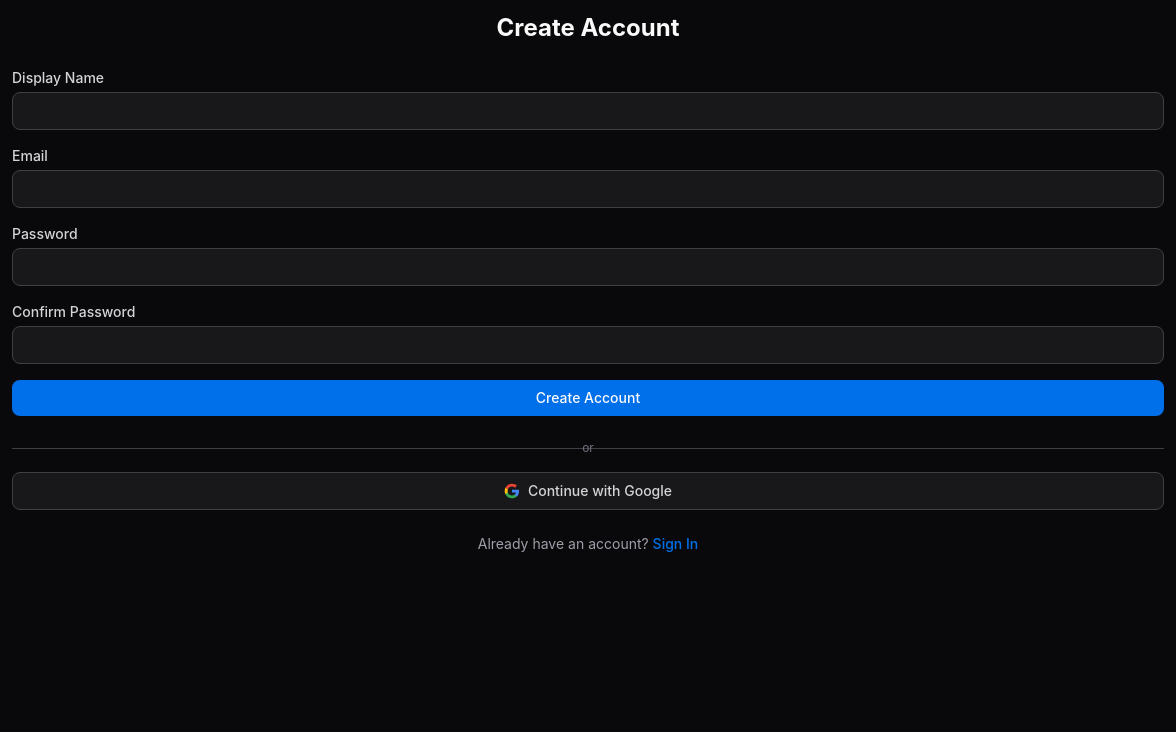
Scenario: RegisterPage › should show server error message on ApiError
Type "test@example.com" into the field with id "email" at (588, 189), box left=12, top=170, right=1164, bottom=208
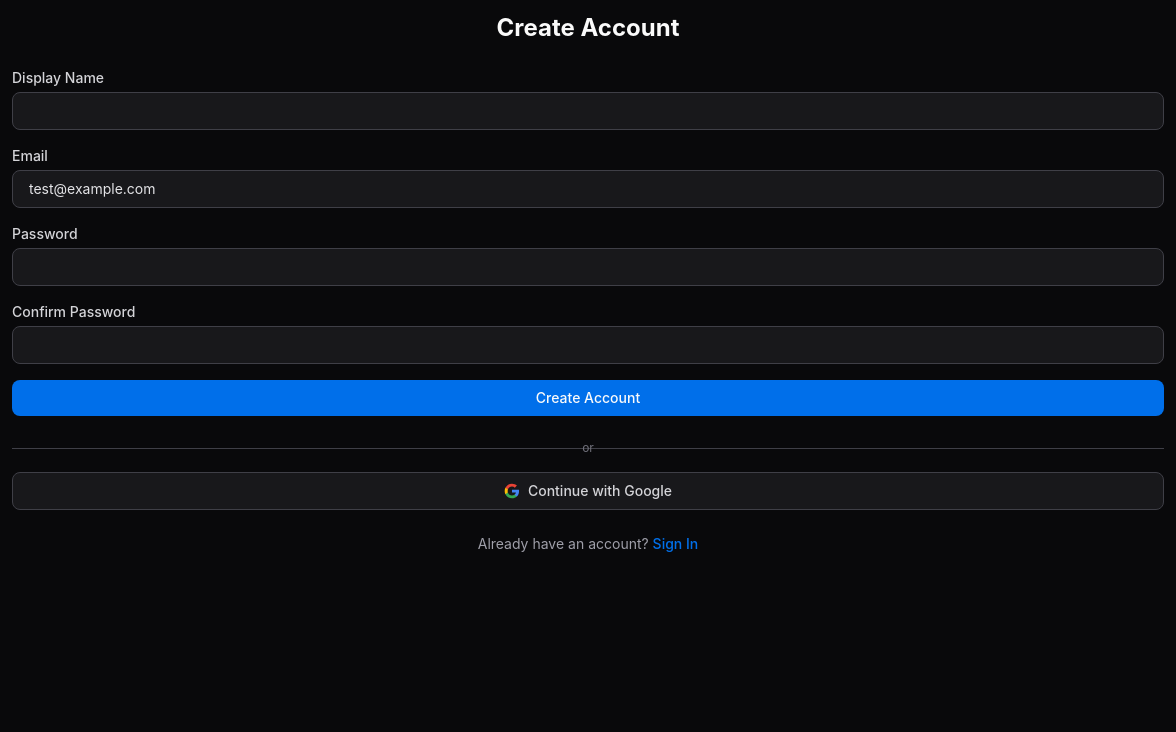
Type "securepass" into the password field labelled "Password" at (588, 267), box left=12, top=248, right=1164, bottom=286
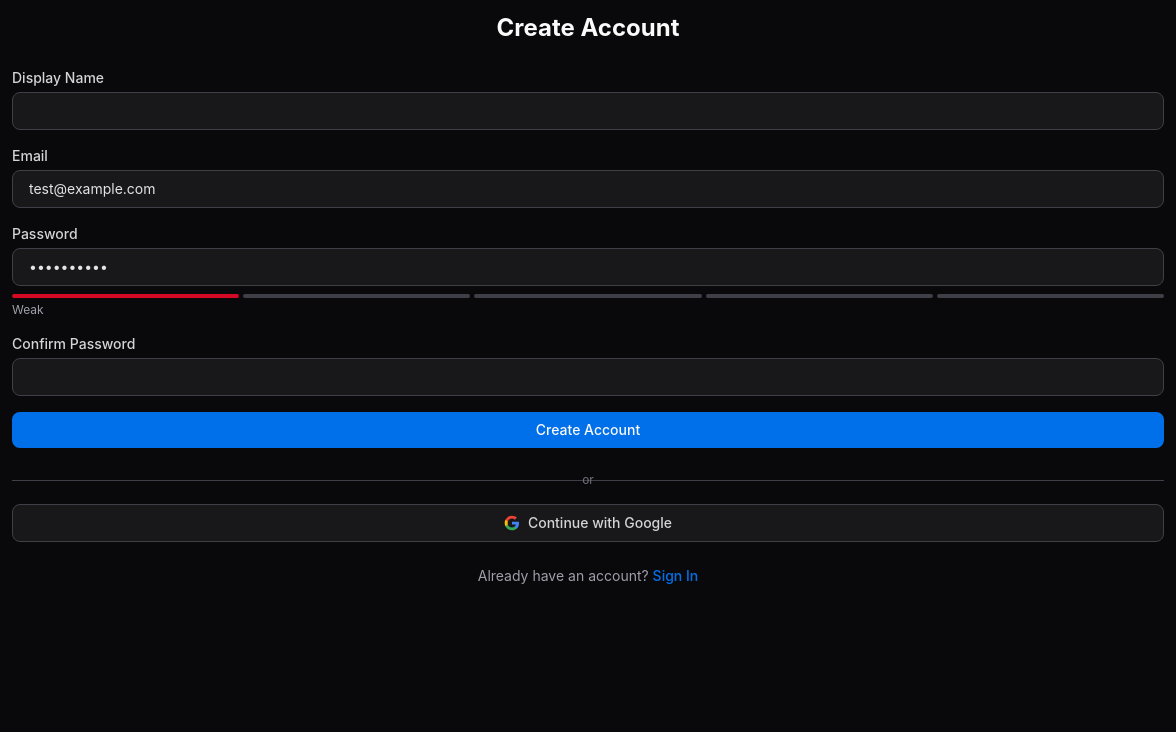
Type "securepass" into the password field with id "confirmPassword" at (588, 377), box left=12, top=358, right=1164, bottom=396
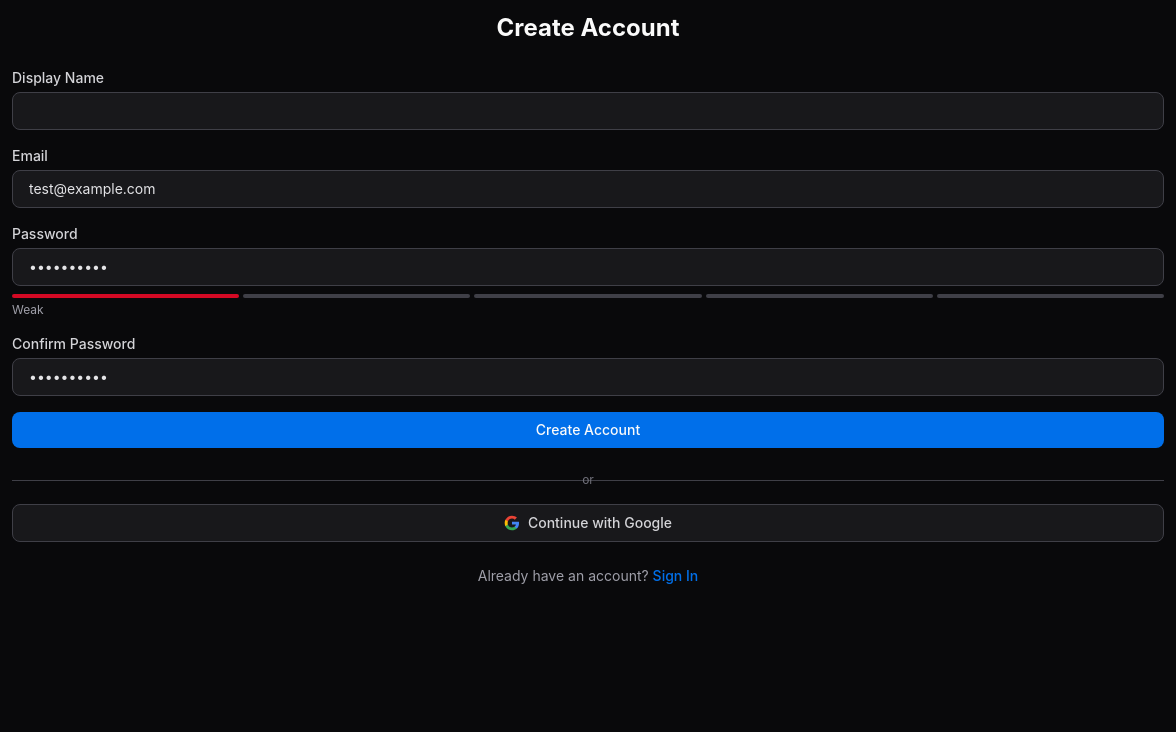
Submit the form, box left=12, top=68, right=1164, bottom=448
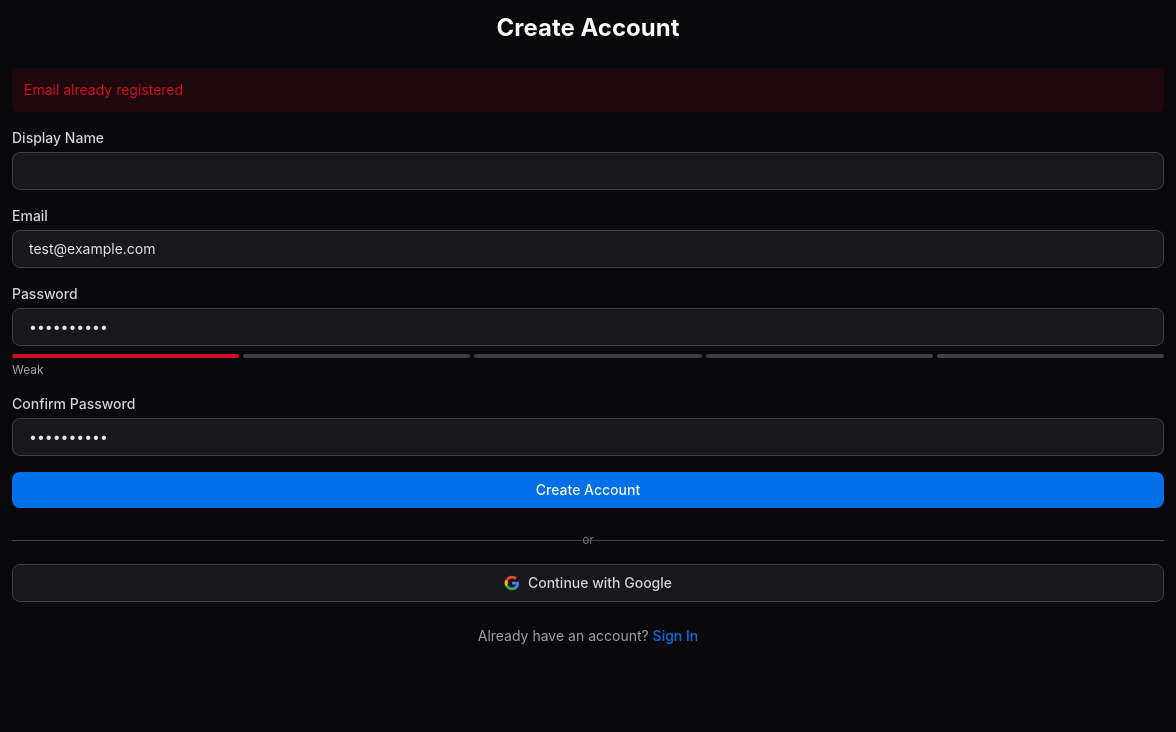
expect the text "Email already registered" is shown: met, box left=12, top=68, right=1164, bottom=112
